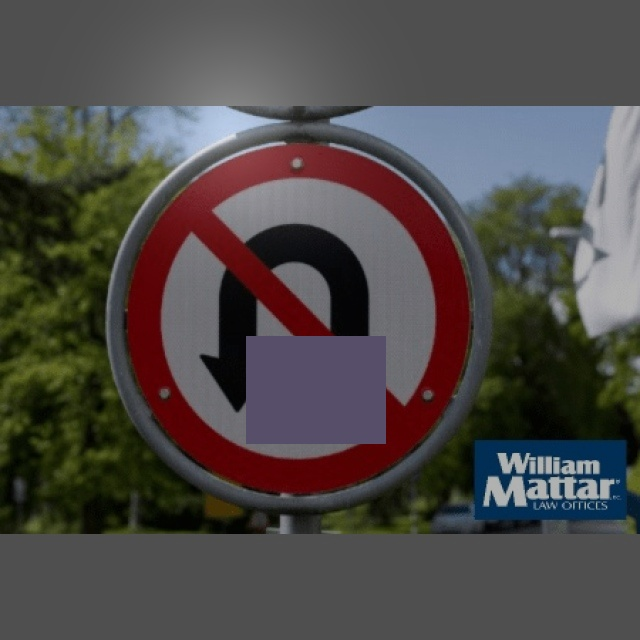U_Turn_Prohibited: (114, 129, 470, 478)
